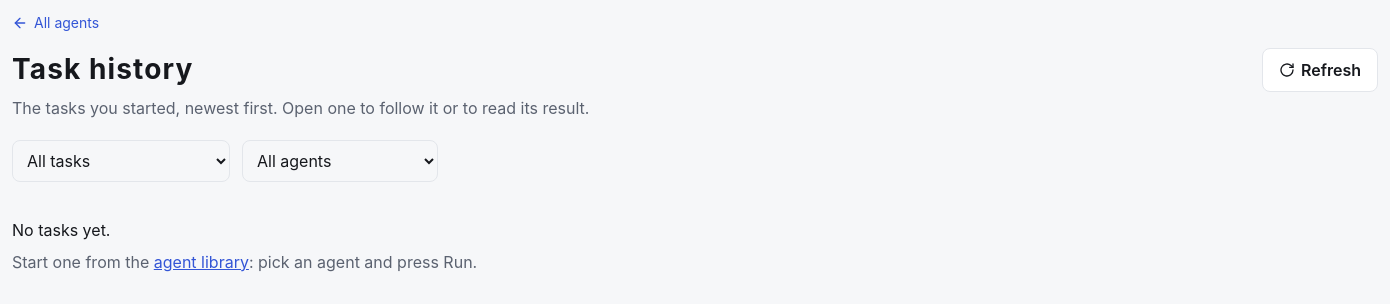
RunsPage › says when there are no tasks, and when no task matches the filters
Expected: the text "No tasks yet." is shown, [12,220,110,240]
Select "Failed" in the 1st dropdown named "Filter by status" at x=121, y=160, box [12,140,230,182]
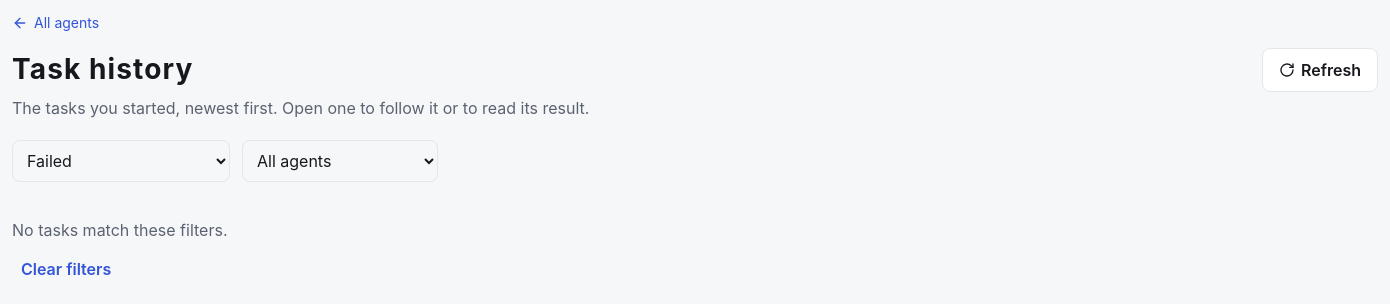
Expected: the text "No tasks match these filters." is shown, [12,220,228,240]
Click the button "Clear filters" at x=66, y=268, box [12,250,120,288]
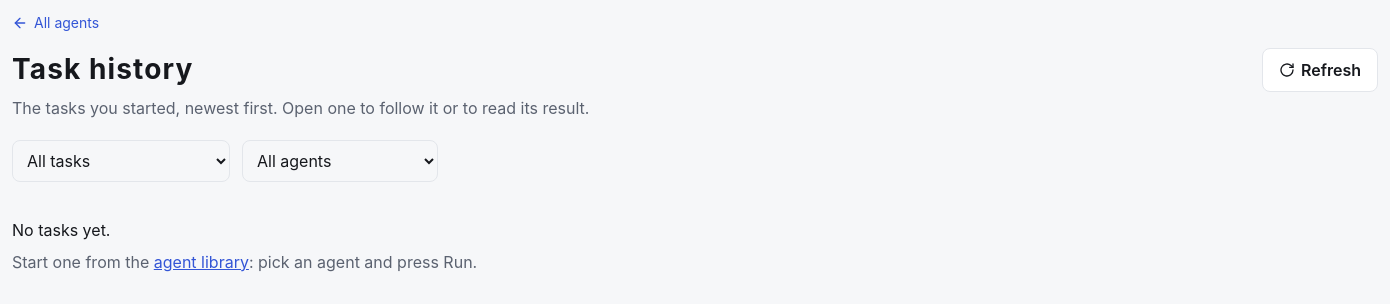
Expected: the text "No tasks yet." is shown, [12,220,110,240]
